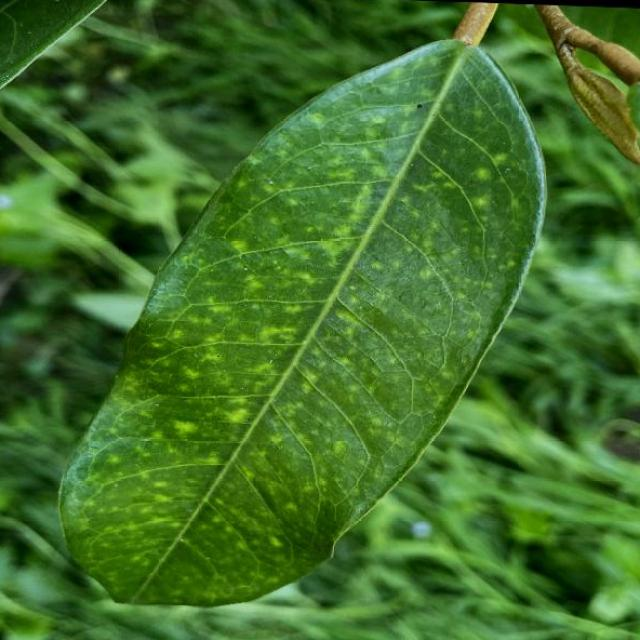Leaf Spot: (46, 14, 564, 632)
